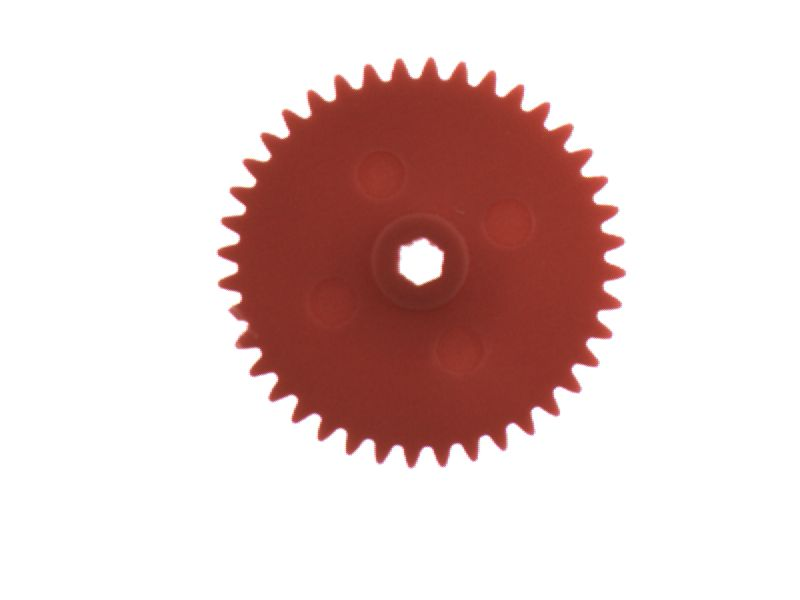defect_break: (209, 282, 264, 340)
